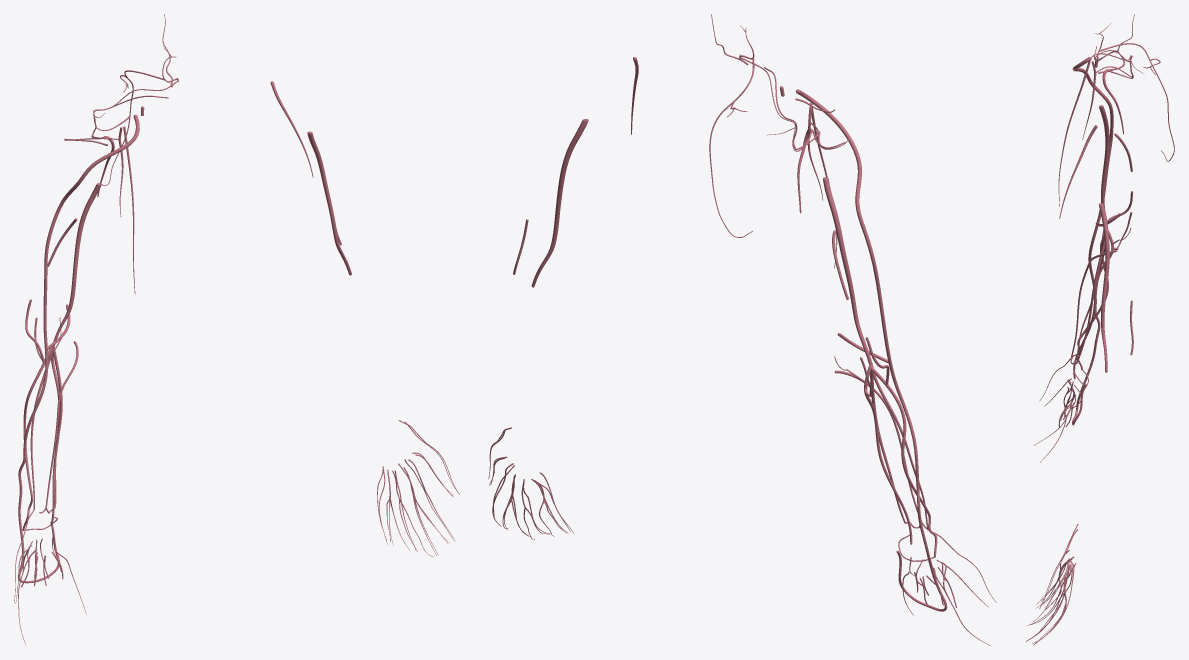
File: cardiovascular-05.glb
3 views of the same model, side by side, from view 1: azimuth 30°, elevation 25°; view 2: azimuth 150°, elevation 25°; view 3: azimuth 270°, elevation 25° (orthographic). The views are drawn at different scales.
Visible parts, largest first — view 1: FJ2272, FJ2341, FJ2313; view 2: FJ2272, FJ2341, FJ2313; view 3: FJ2272, FJ2313, FJ2341, FJ2310, FJ2284, FJ2312, FJ2286, FJ2285, FJ2330.
Boxes of the visible parts, x1,y1,x2,y2 form: FJ2272: (18,114,139,540); FJ2341: (52,183,101,346); FJ2313: (307,131,351,275); FJ2272: (796,89,933,572); FJ2341: (823,177,873,367); FJ2313: (531,119,588,287); FJ2272: (1072,57,1113,381); FJ2313: (1098,203,1109,372); FJ2341: (1099,105,1109,221); FJ2310: (1073,231,1113,379); FJ2284: (1098,43,1174,161); FJ2312: (1071,238,1104,364); FJ2286: (1070,250,1116,362); FJ2285: (1058,60,1090,206); FJ2330: (1059,125,1097,218).
Bounding box in the file's own units: 0.6488 × 0.7704 × 0.1977.
